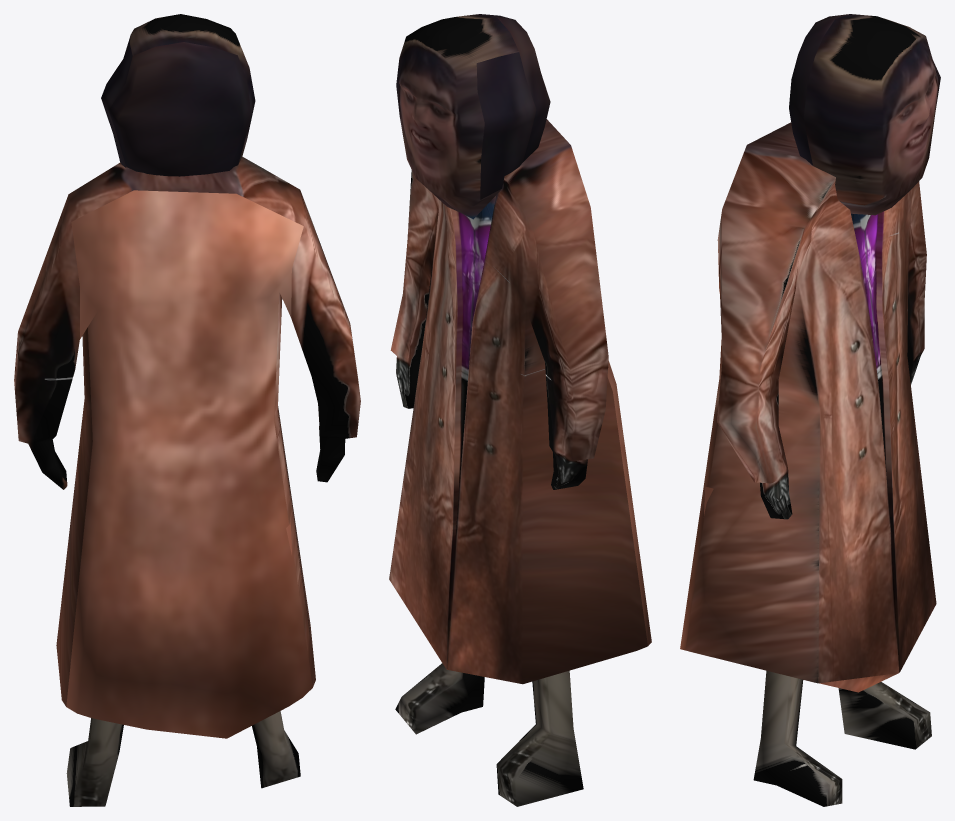
The model's file is char_gambler.glb.
The picture shows the model from 3 angles, left to right: view 1: azimuth 30°, elevation 25°; view 2: azimuth 150°, elevation 25°; view 3: azimuth 270°, elevation 25°; orthographic projection.
Parts seen in each view (by area): view 1: char_gambler; view 2: char_gambler; view 3: char_gambler.
Part boxes in pixels (<box>): char_gambler: <box>14,14,360,806</box>; char_gambler: <box>389,14,651,806</box>; char_gambler: <box>680,14,940,806</box>.
Size of the model in its own units: 0.6887 by 1.78 by 0.5569.
Materials: 1 (1 with a texture image).
